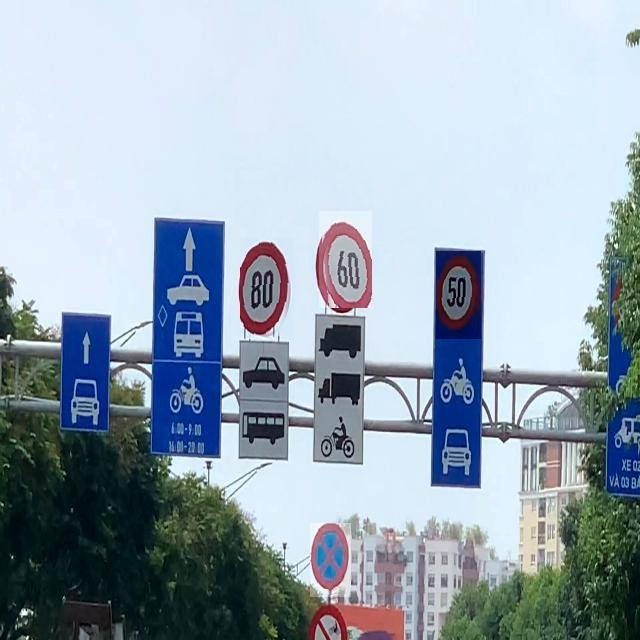bien_chi_dan: (240, 238, 294, 340), (319, 211, 372, 308), (436, 252, 481, 340), (310, 524, 351, 598)
